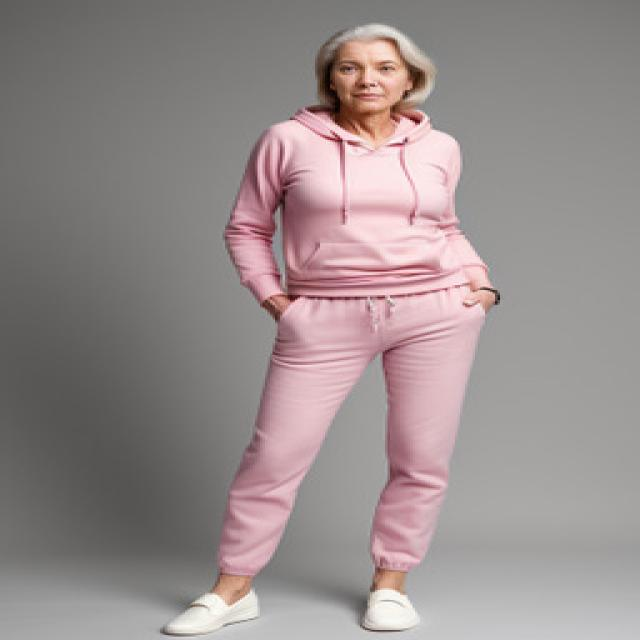Ai human 2: (144, 9, 524, 640)
